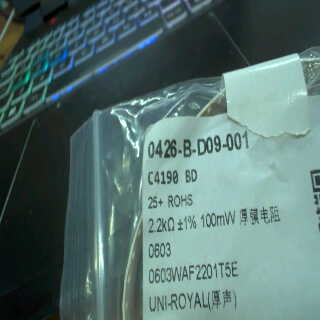2.2kR: (144, 214, 179, 233)
